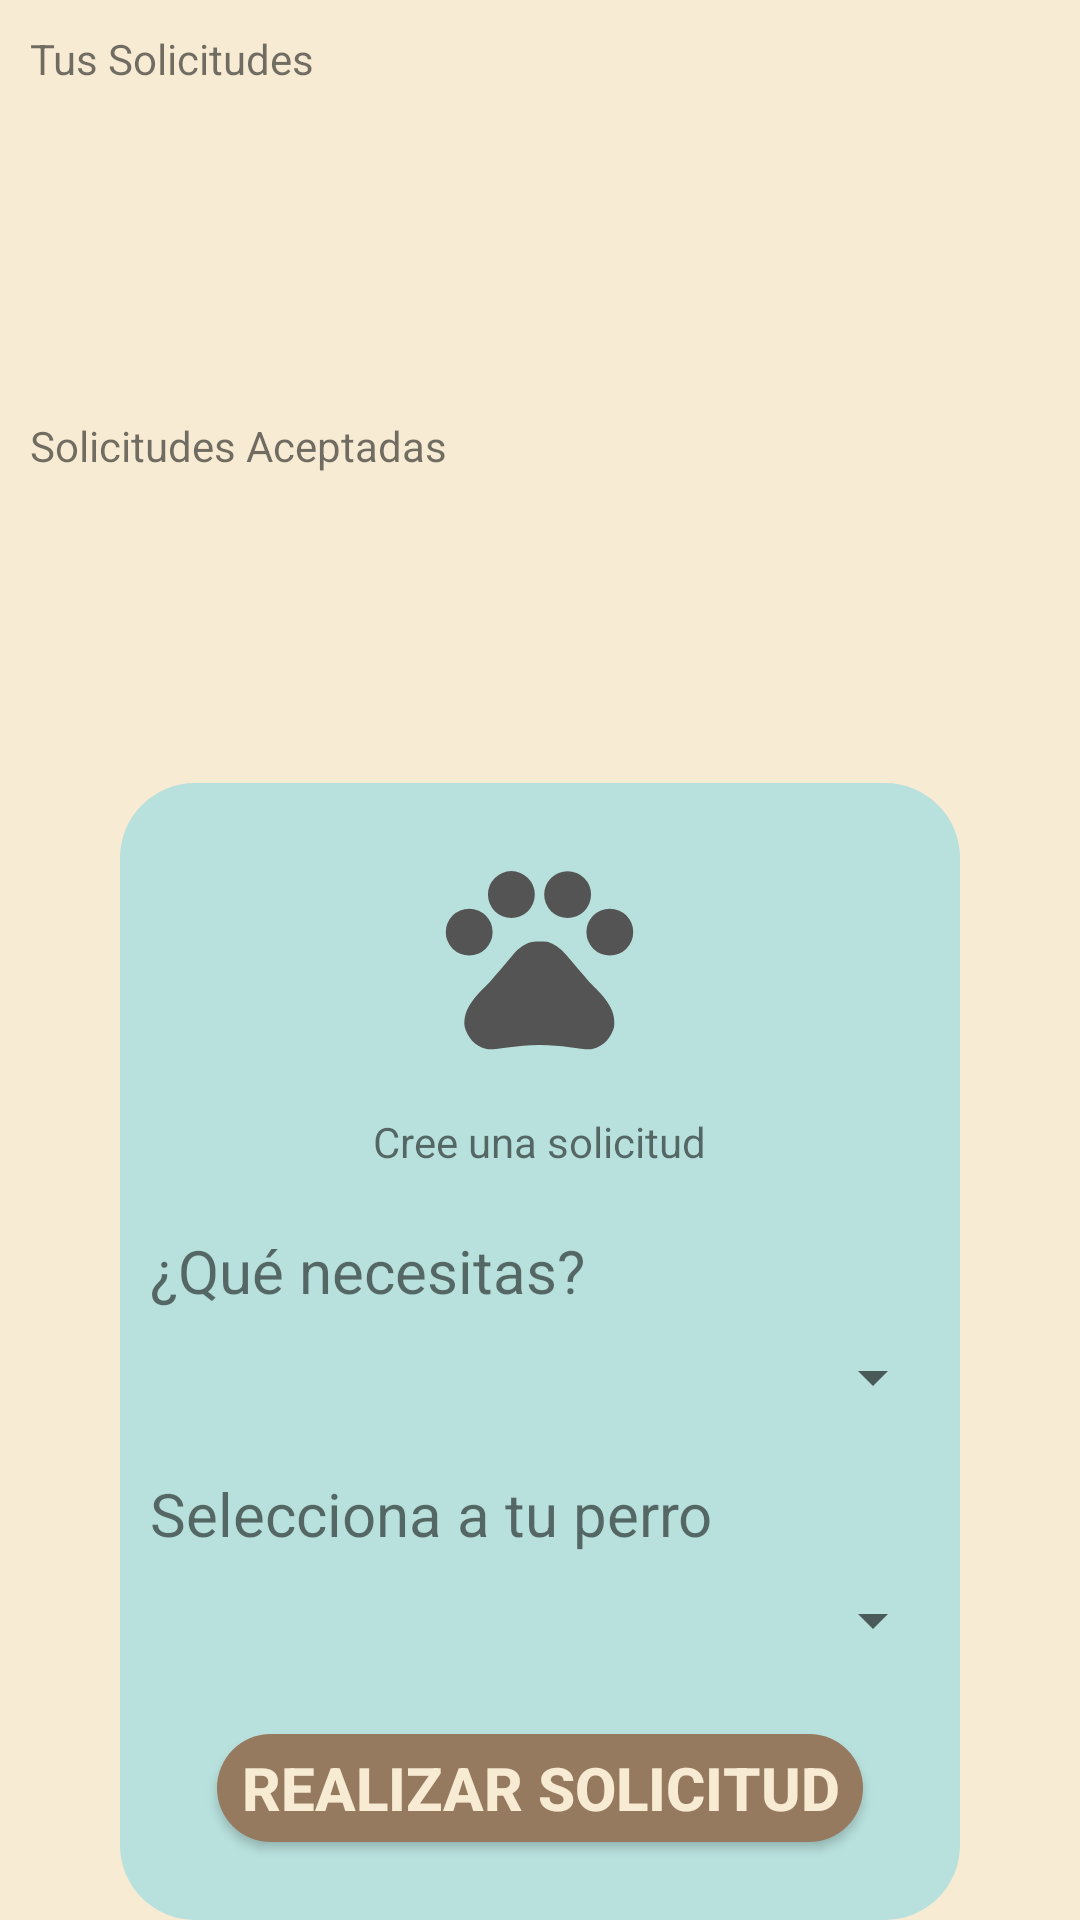

Icons on this 1080px x 1920px Android screen, each with the point to tap as [x,y]:
petpound: [539,960]
